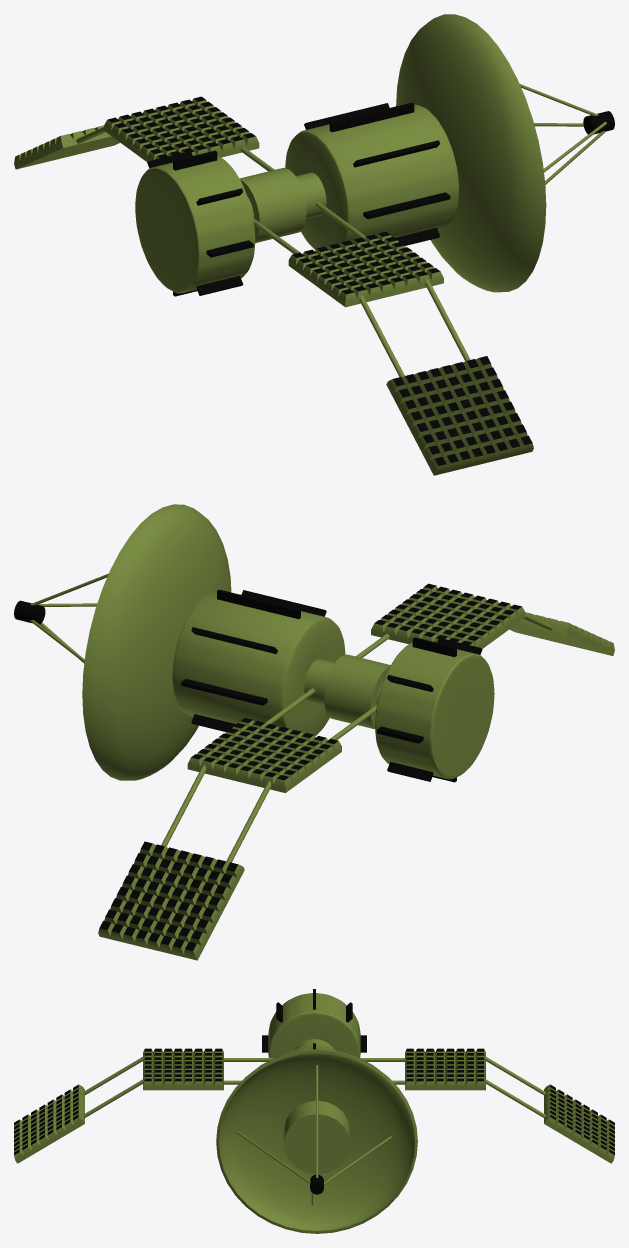
The model's file is satellite.obj.
3 views of the same model, one above another, from view 1: azimuth 30°, elevation 25°; view 2: azimuth 150°, elevation 25°; view 3: azimuth 270°, elevation 25° (orthographic). The views are drawn at different scales.
Parts seen in each view (by area): view 1: satellite_obj; view 2: satellite_obj; view 3: satellite_obj.
Part boxes in pixels (left/top/right/bottom): satellite_obj: left=14, top=14, right=614, bottom=475; satellite_obj: left=14, top=504, right=614, bottom=960; satellite_obj: left=14, top=989, right=614, bottom=1233.
Size of the model in its own units: 14.33 by 7.95 by 23.58.
